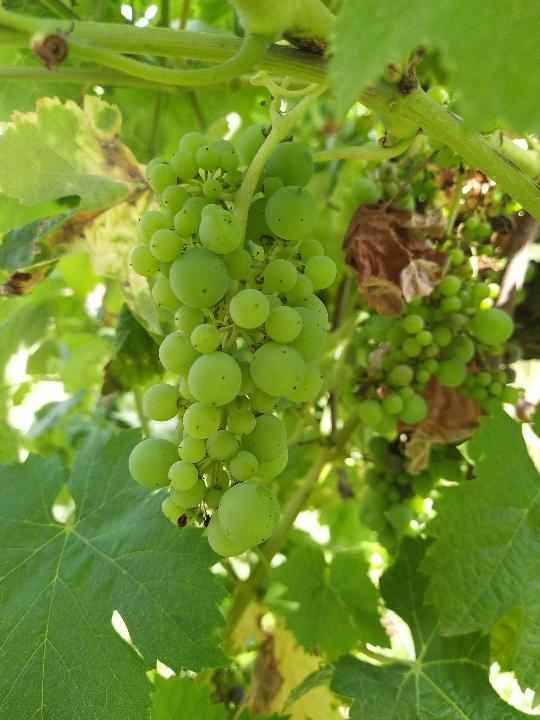grape: (126, 122, 340, 562)
